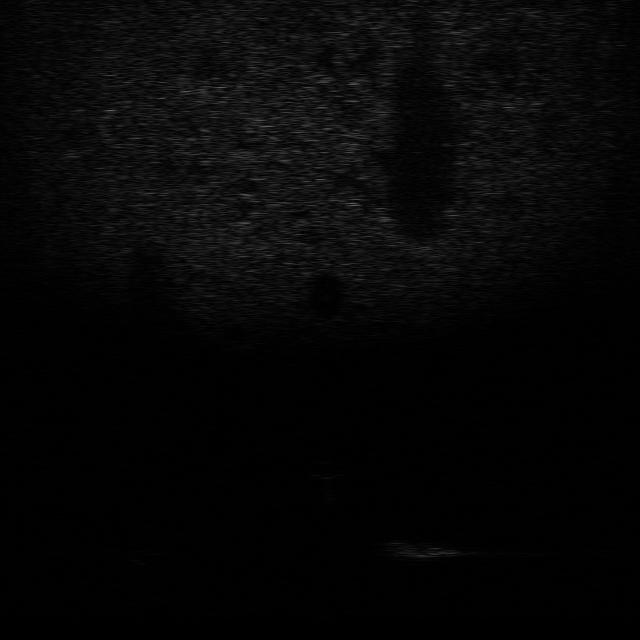ball: (305, 455, 347, 481)
metal bucket: (381, 536, 464, 566)
tyre: (121, 540, 170, 568)
